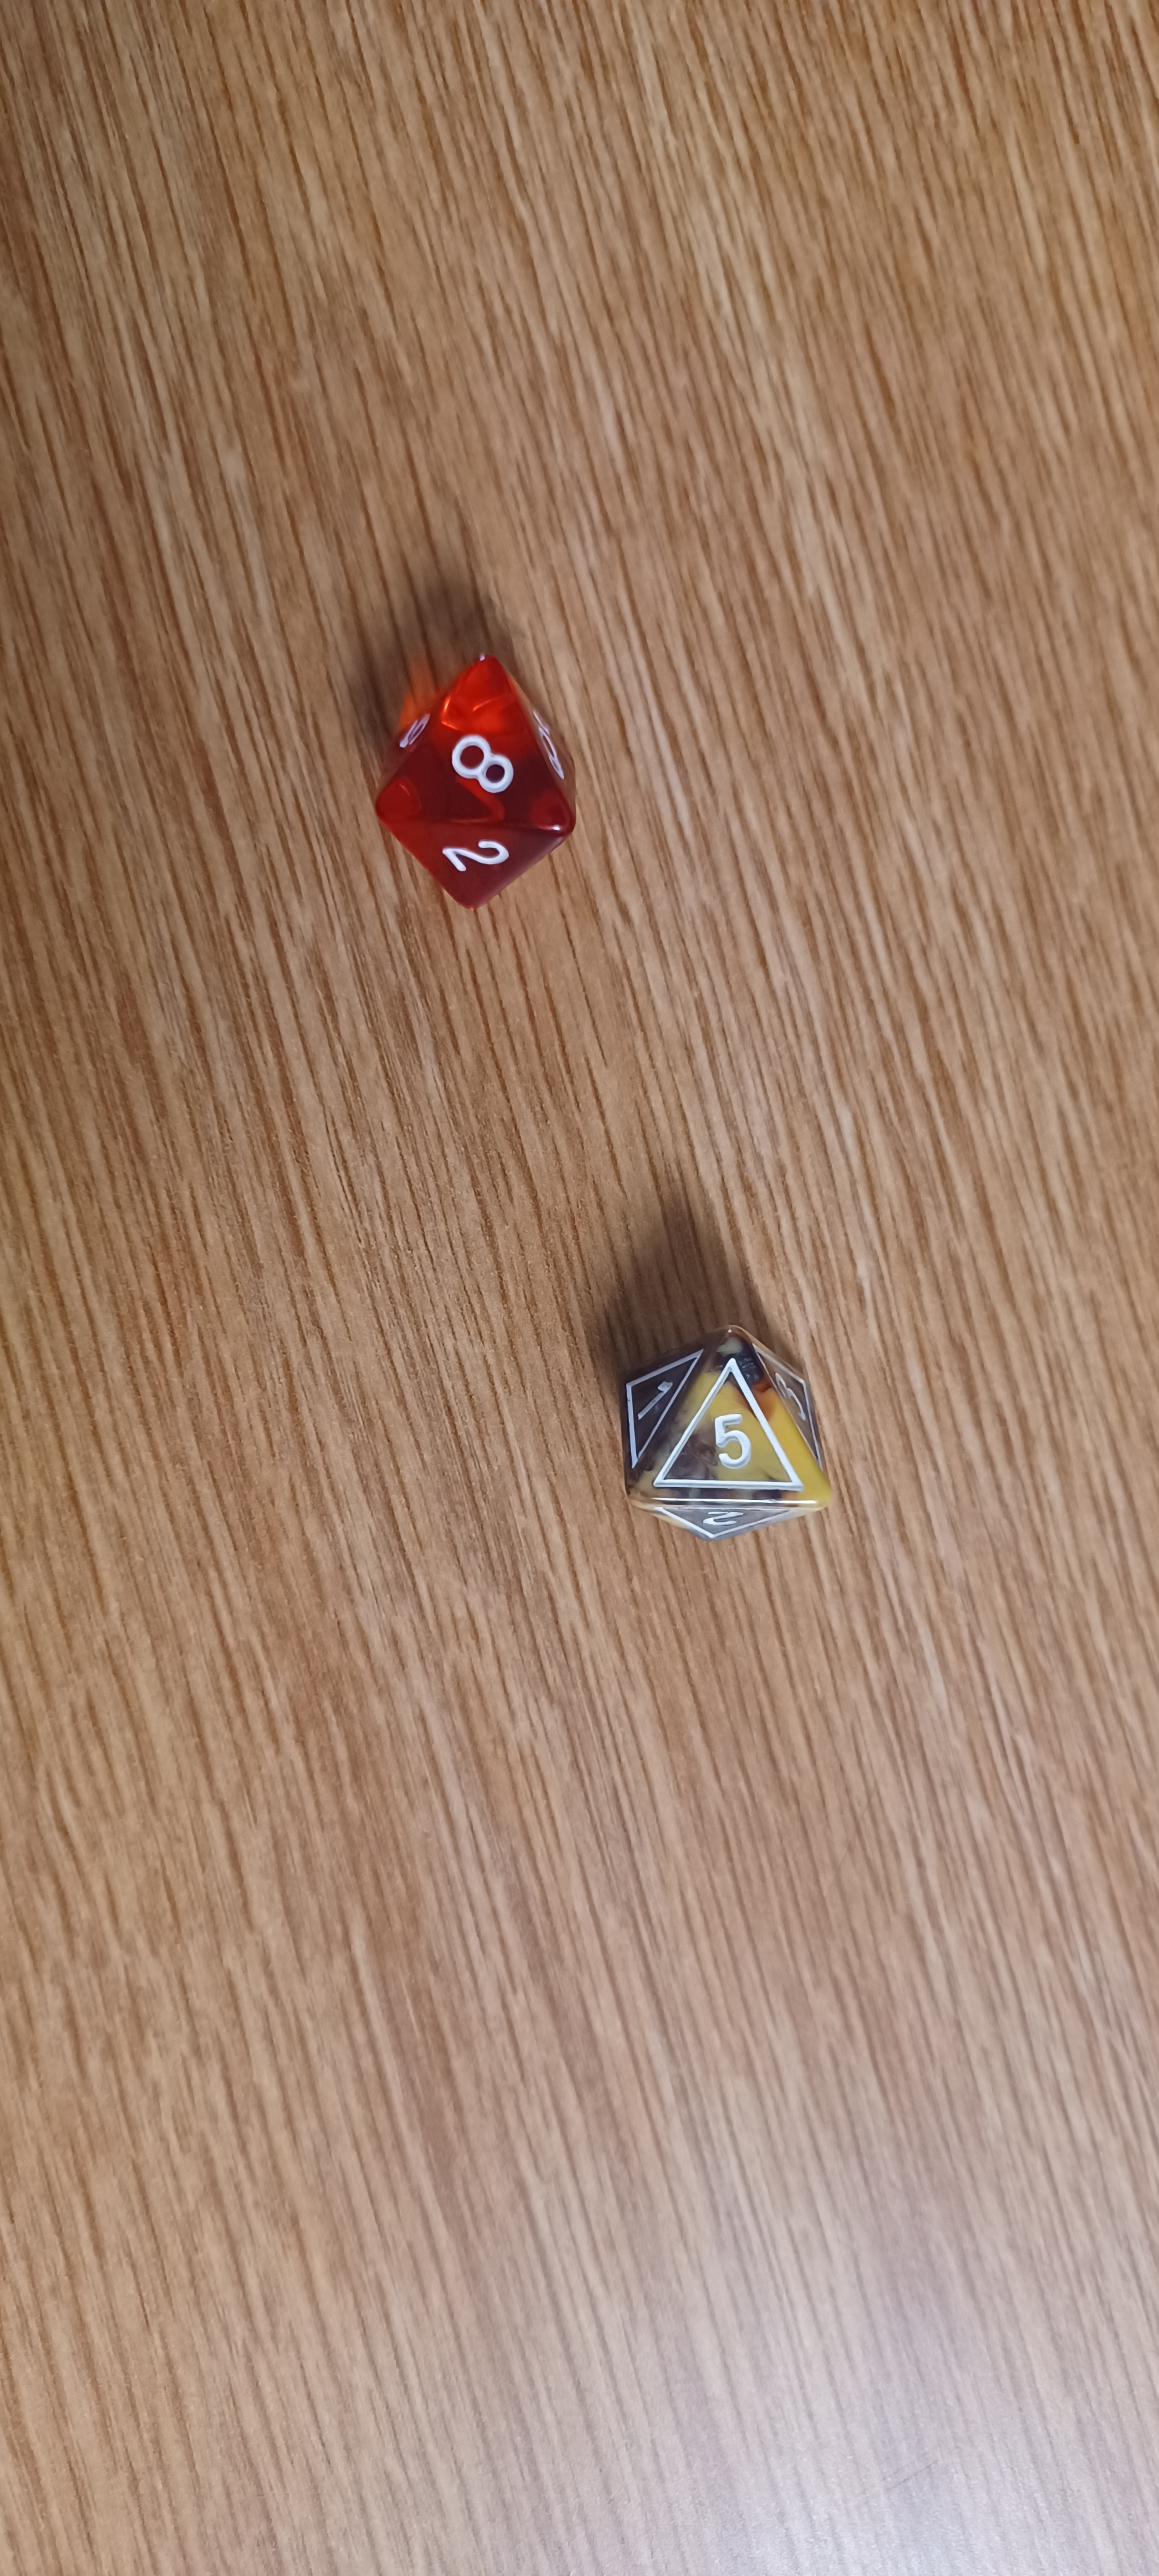eight: (300, 624, 642, 927)
five: (601, 1290, 857, 1571)
